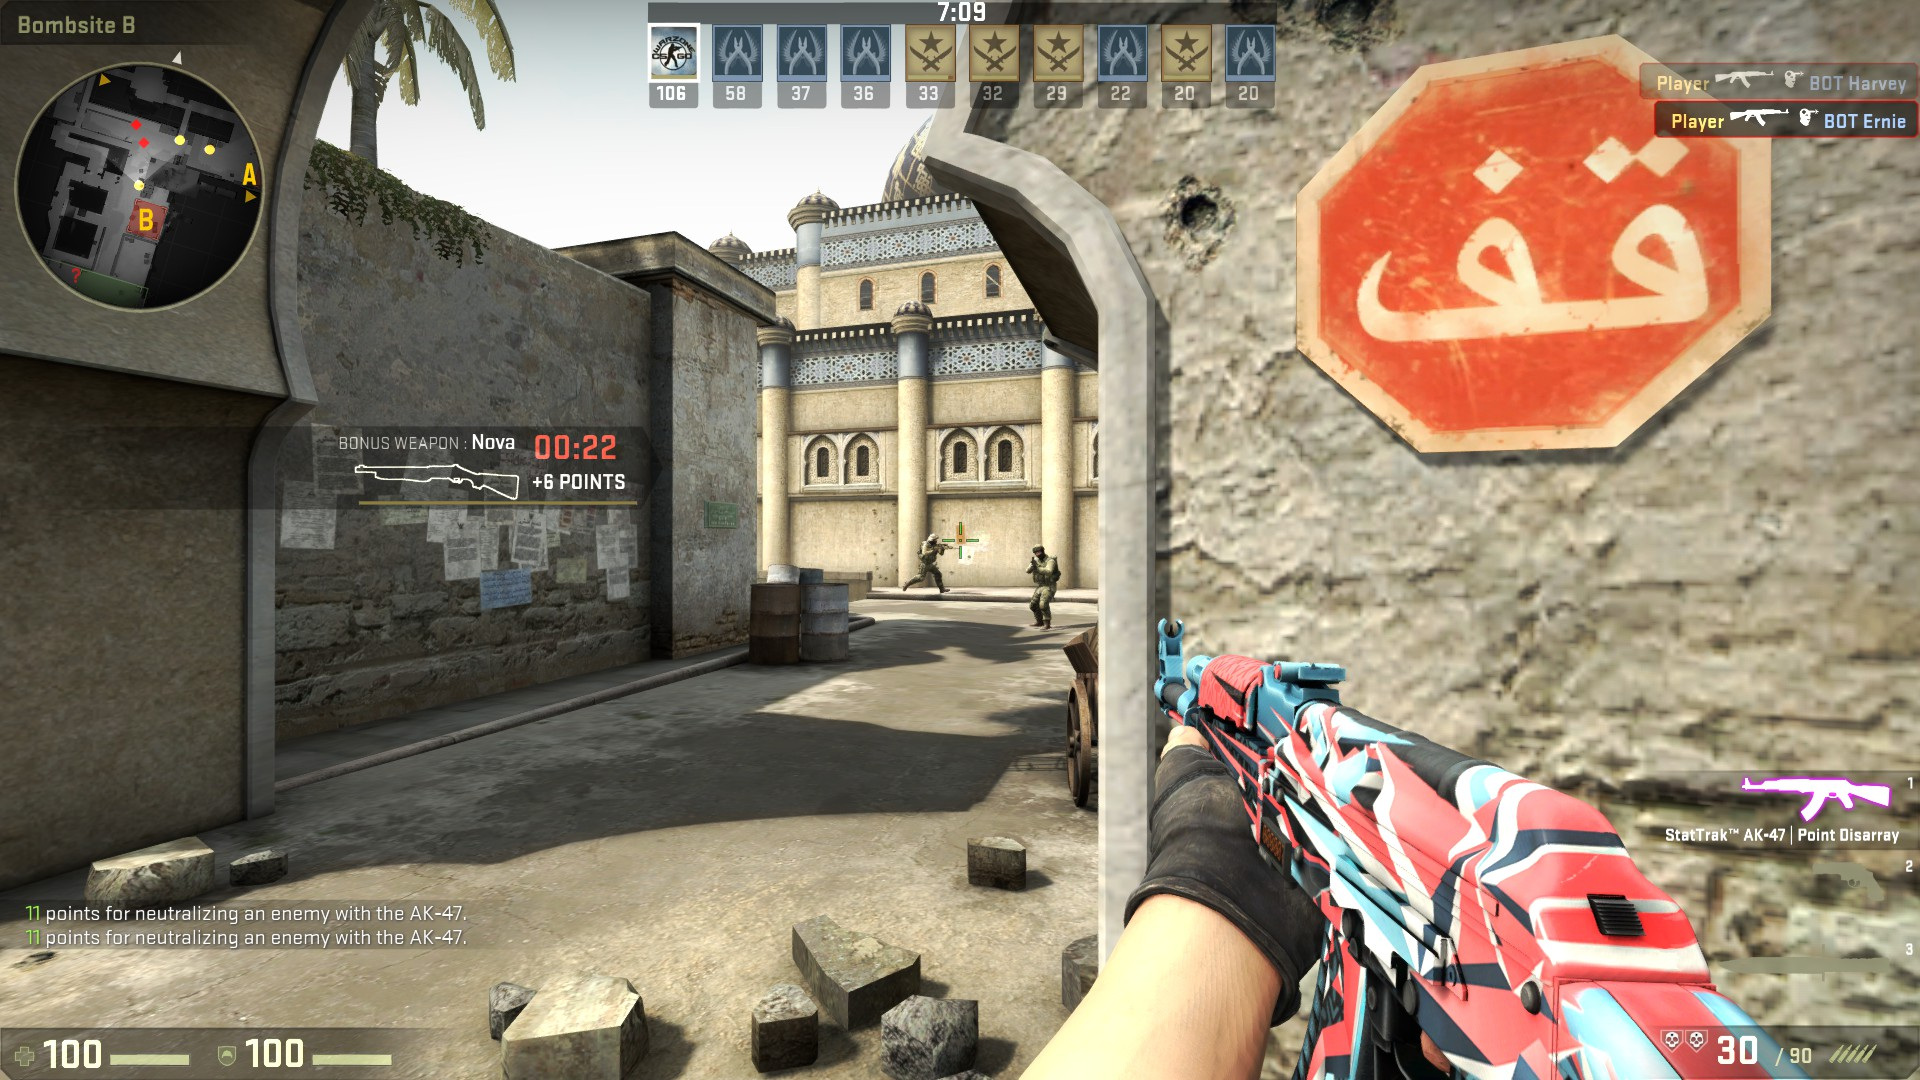c: (1027, 542, 1059, 630), (910, 534, 945, 593)
ch: (1033, 543, 1046, 560), (926, 534, 942, 547)
